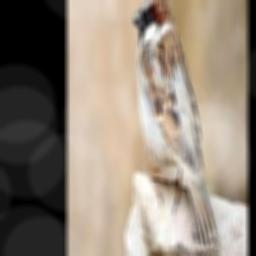Sparrow: (132, 0, 219, 250)
